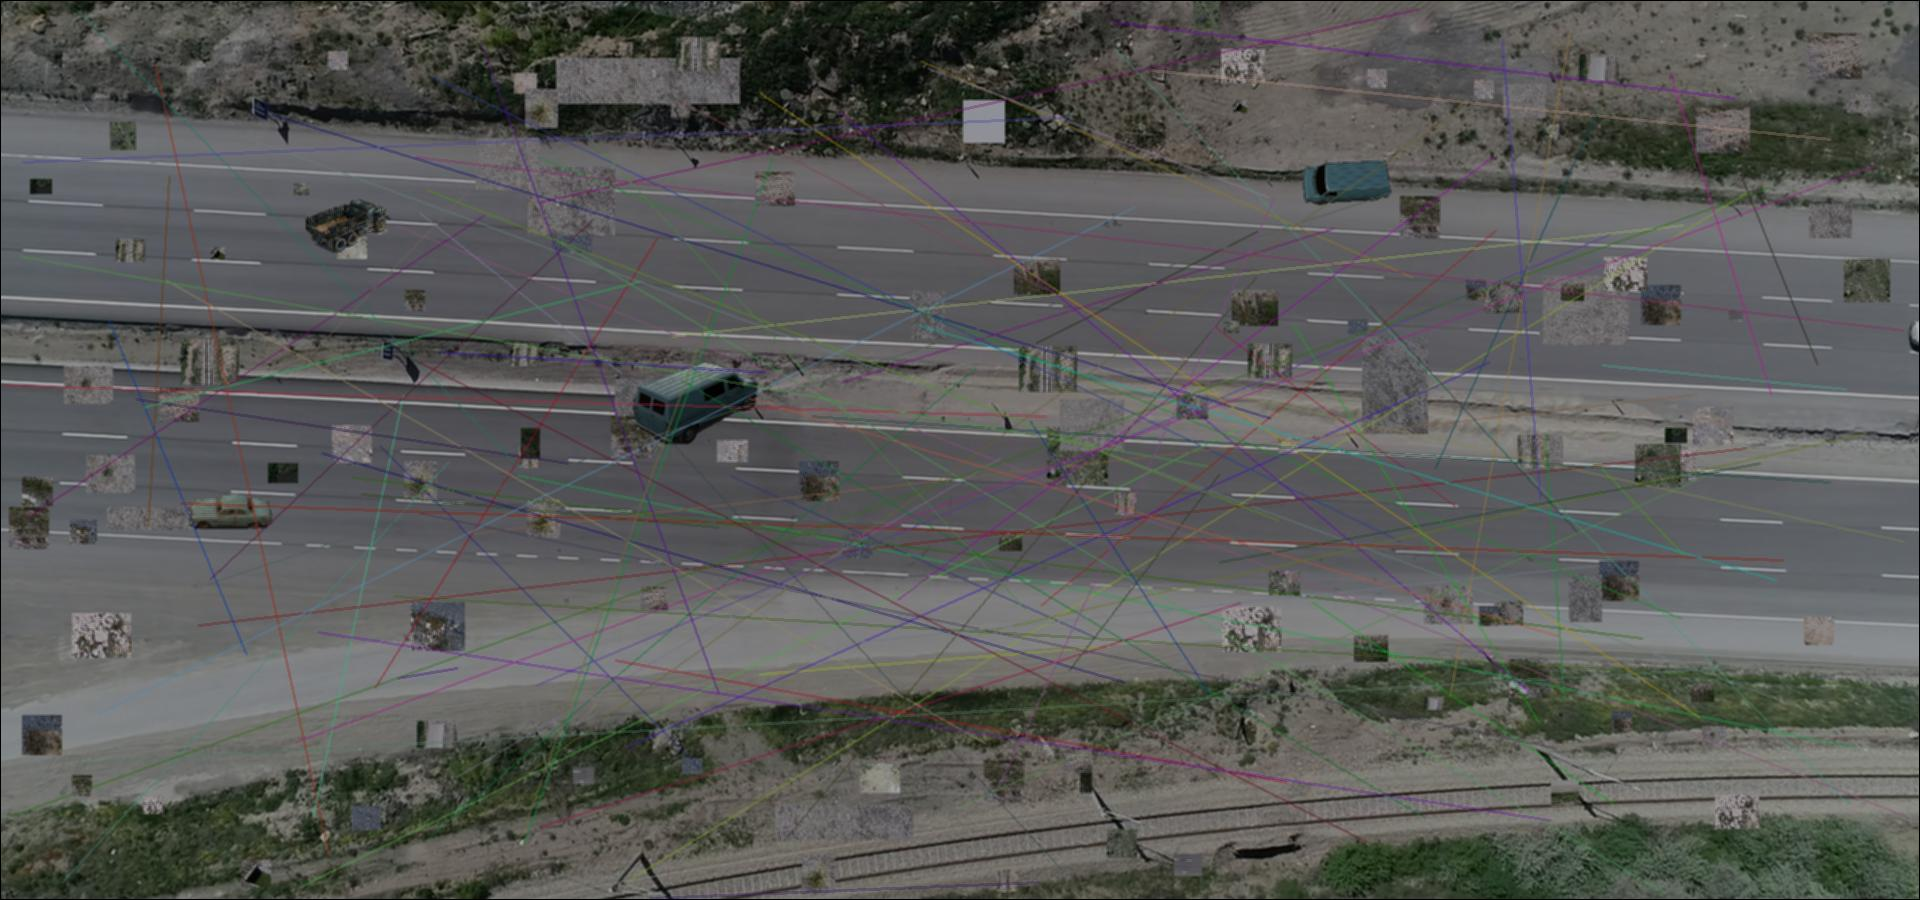arac: (633, 358, 758, 444), (302, 197, 389, 253), (1302, 159, 1392, 204), (186, 493, 272, 529)
